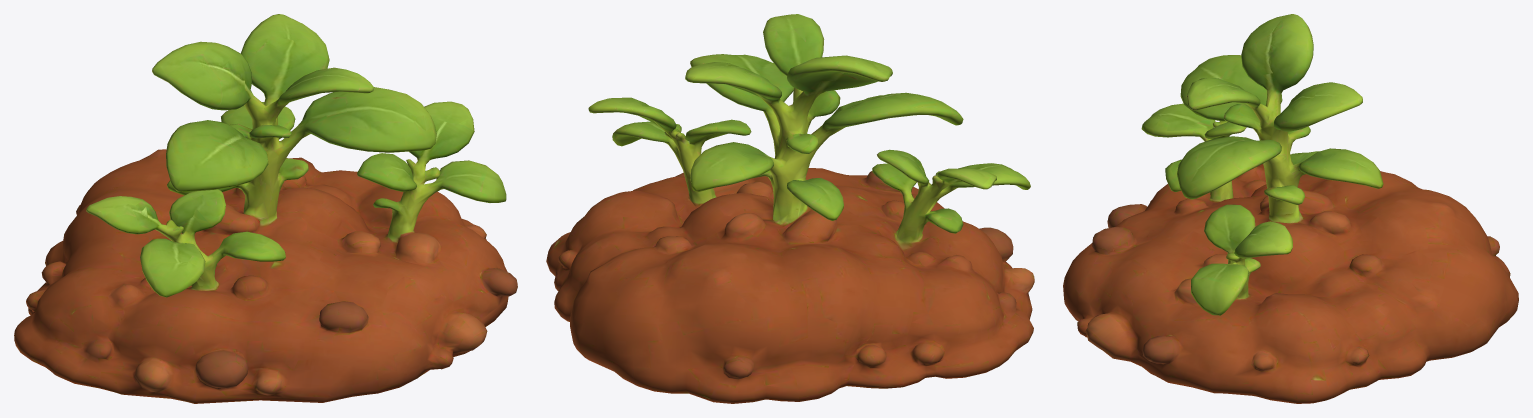
The picture shows the model from 3 angles, left to right: view 1: azimuth 30°, elevation 25°; view 2: azimuth 150°, elevation 25°; view 3: azimuth 270°, elevation 25°; orthographic projection. The views are drawn at different scales.
Visible parts, largest first — view 1: potato-growing; view 2: potato-growing; view 3: potato-growing.
Part boxes in pixels (bbox=[...]): potato-growing: bbox=[14, 14, 517, 403]; potato-growing: bbox=[546, 14, 1034, 403]; potato-growing: bbox=[1063, 14, 1518, 403].
Size of the model in its own units: 0.793 by 0.4488 by 0.7369.
1 material, 1 textured.
